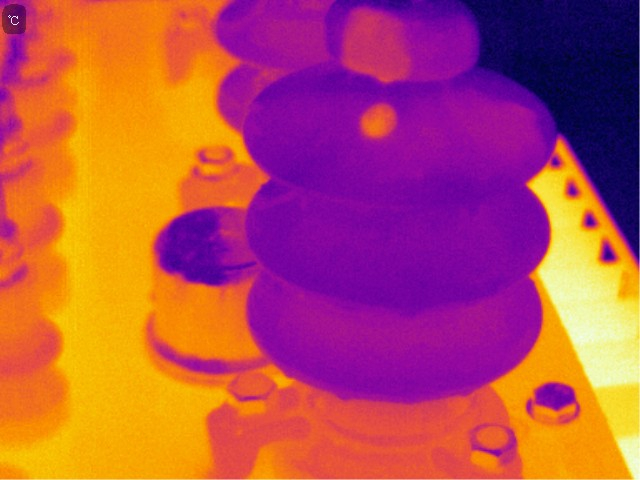Oil: (332, 5, 418, 91), (350, 97, 405, 146)
